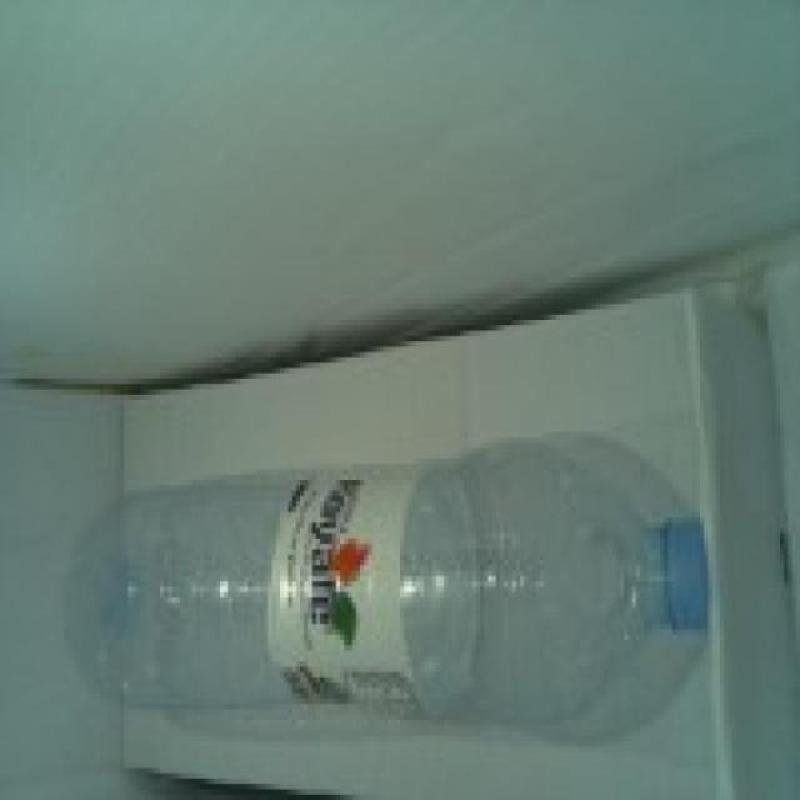botella: (66, 446, 709, 726)
